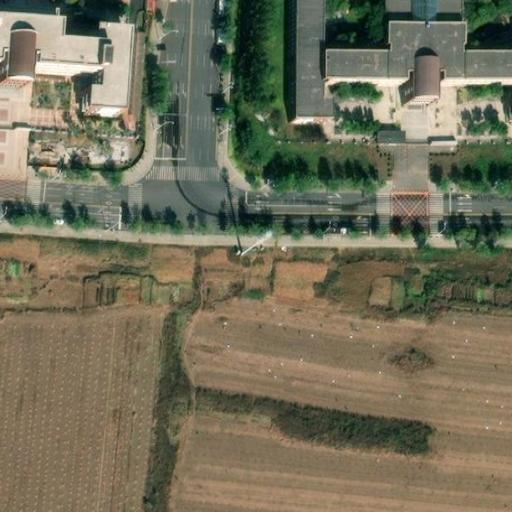building: (297, 0, 512, 122), (0, 19, 122, 111), (0, 126, 28, 189), (374, 127, 406, 143), (427, 134, 459, 148)
